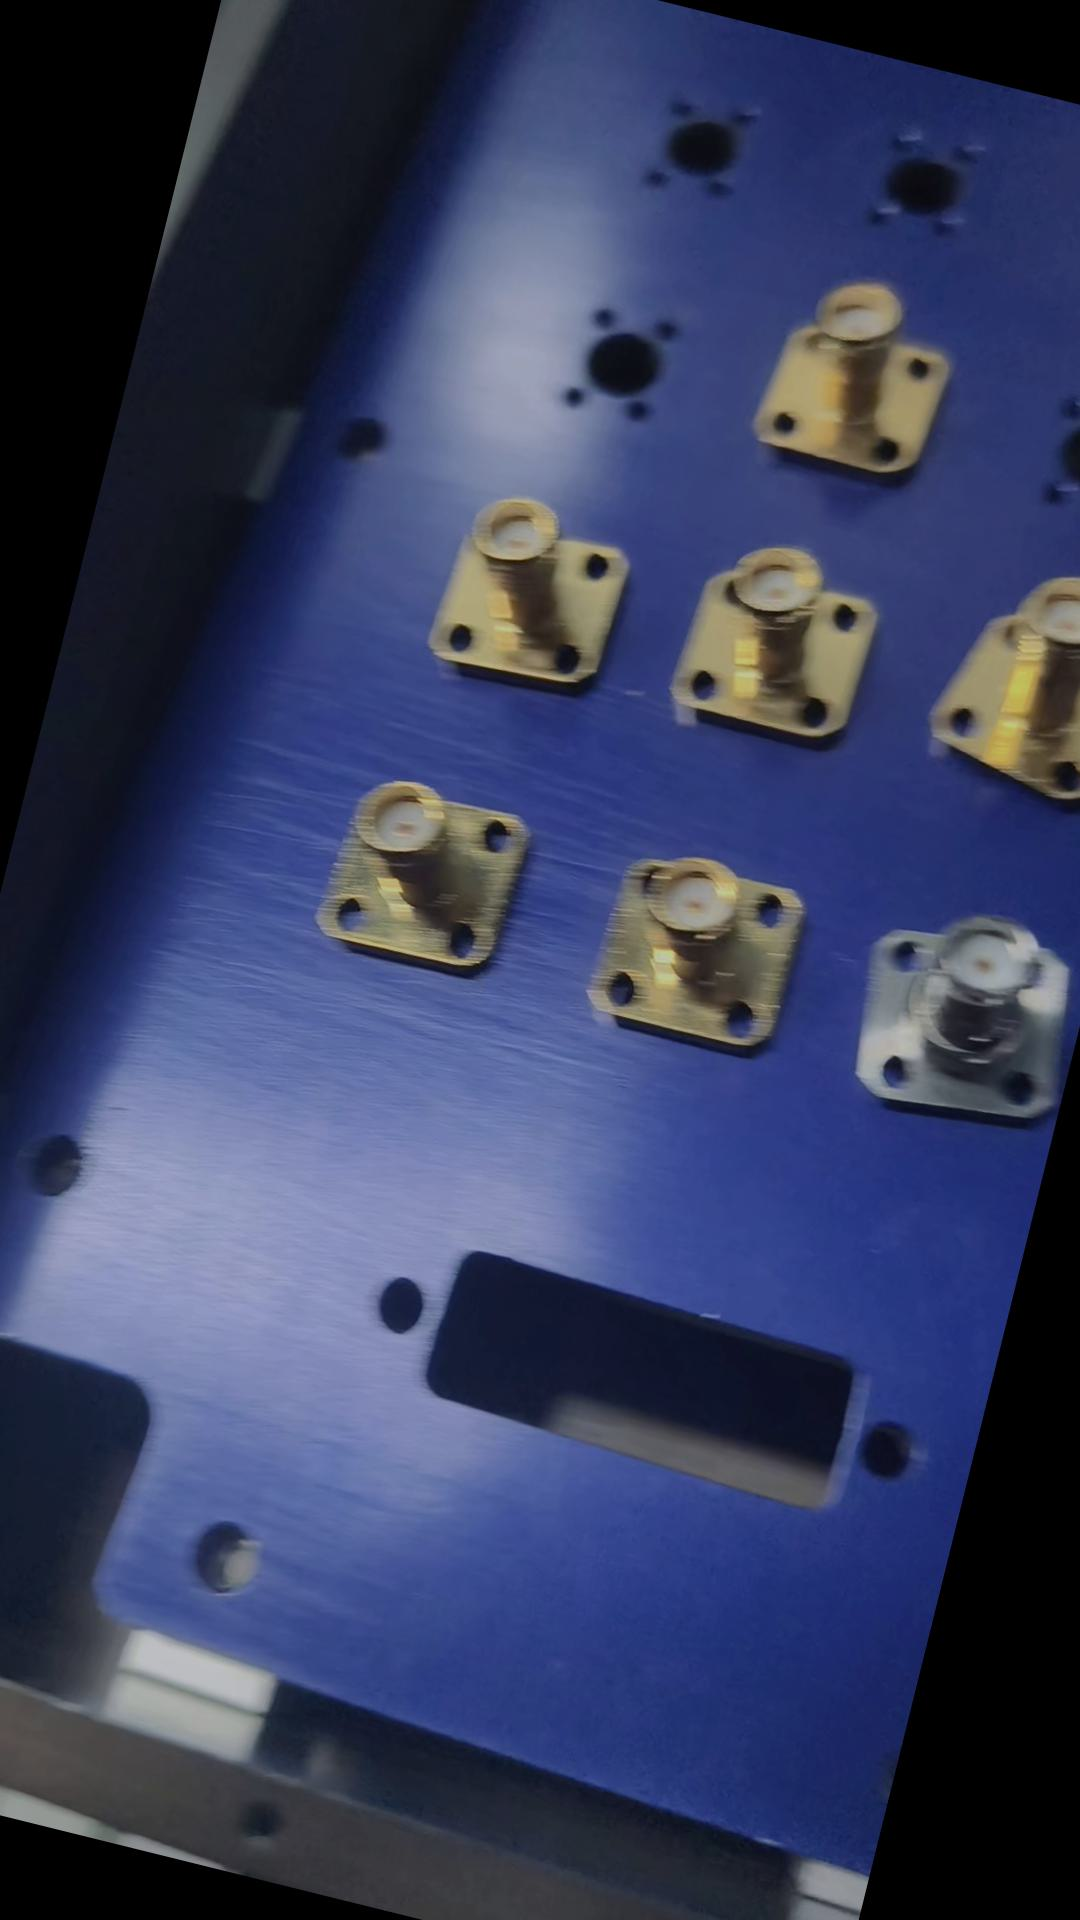SMA: (832, 890, 1079, 1153), (578, 836, 823, 1069), (659, 521, 895, 760), (752, 262, 982, 498), (305, 766, 542, 992), (414, 480, 644, 703), (922, 551, 1079, 825)
